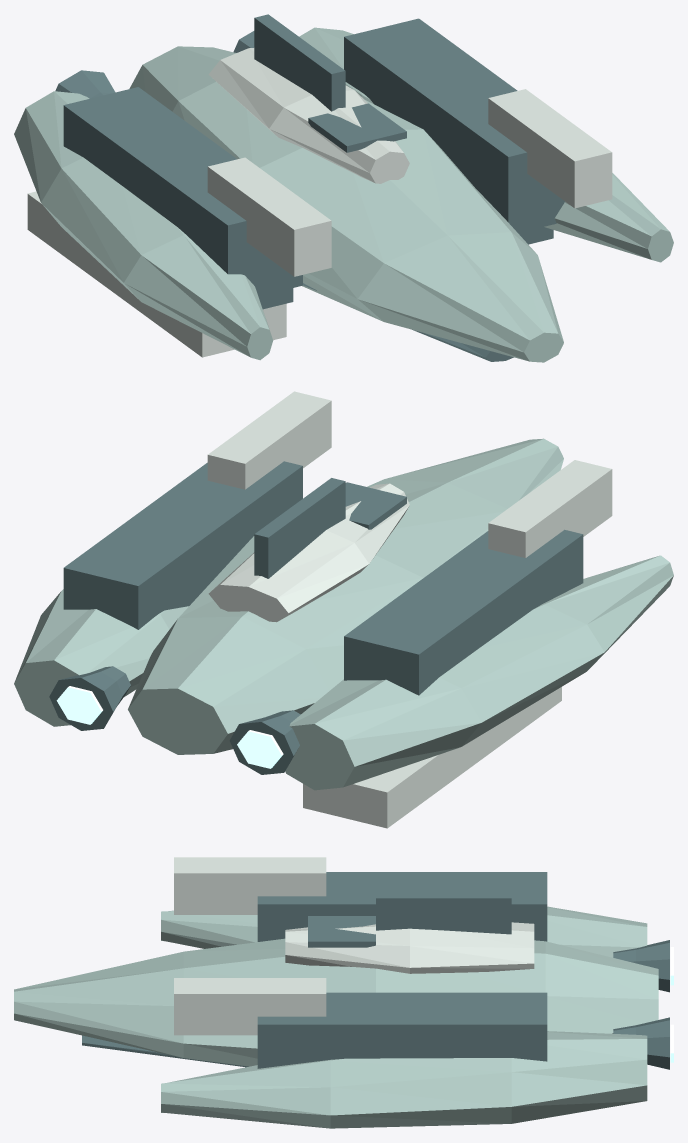
3 views of the same model, one above another, from view 1: azimuth 30°, elevation 25°; view 2: azimuth 150°, elevation 25°; view 3: azimuth 270°, elevation 25° (orthographic). The views are drawn at different scales.
Bounding box in the file's own units: 12.84 × 5.34 × 17.33.
